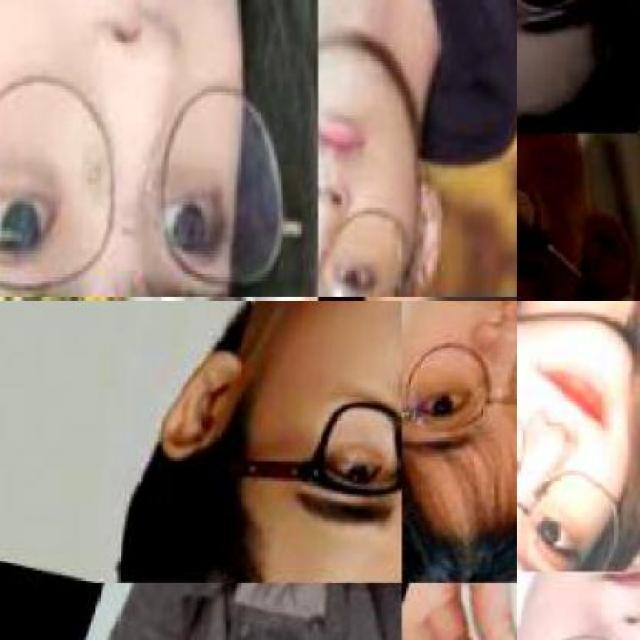glasses: (0, 80, 286, 296), (208, 405, 398, 498), (517, 472, 633, 572), (404, 334, 512, 436), (321, 212, 432, 298)
